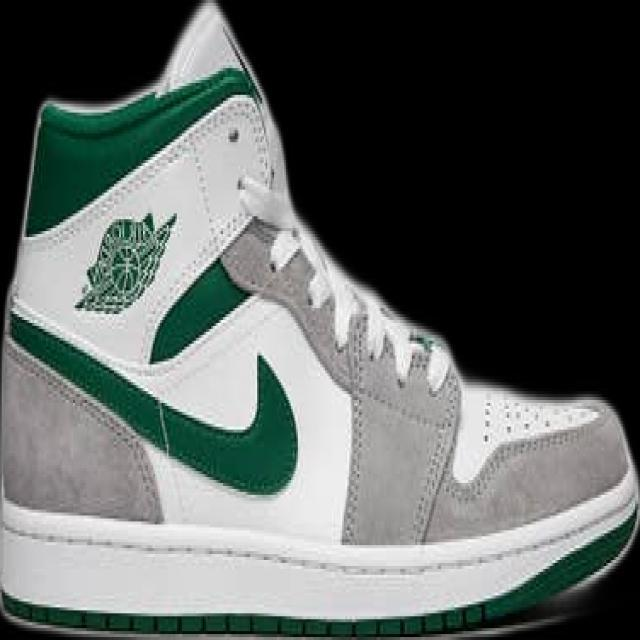J1_InsoleChar: (2, 2, 636, 636)
J1_ShoeLogo: (72, 210, 177, 315)
J1_StitchPattern: (223, 214, 601, 453), (224, 177, 464, 543), (4, 508, 636, 582), (235, 216, 448, 394), (4, 328, 165, 521), (336, 297, 461, 544), (6, 599, 493, 636), (453, 388, 605, 503), (338, 294, 450, 395), (339, 295, 372, 545), (478, 391, 602, 447), (410, 416, 455, 544)
